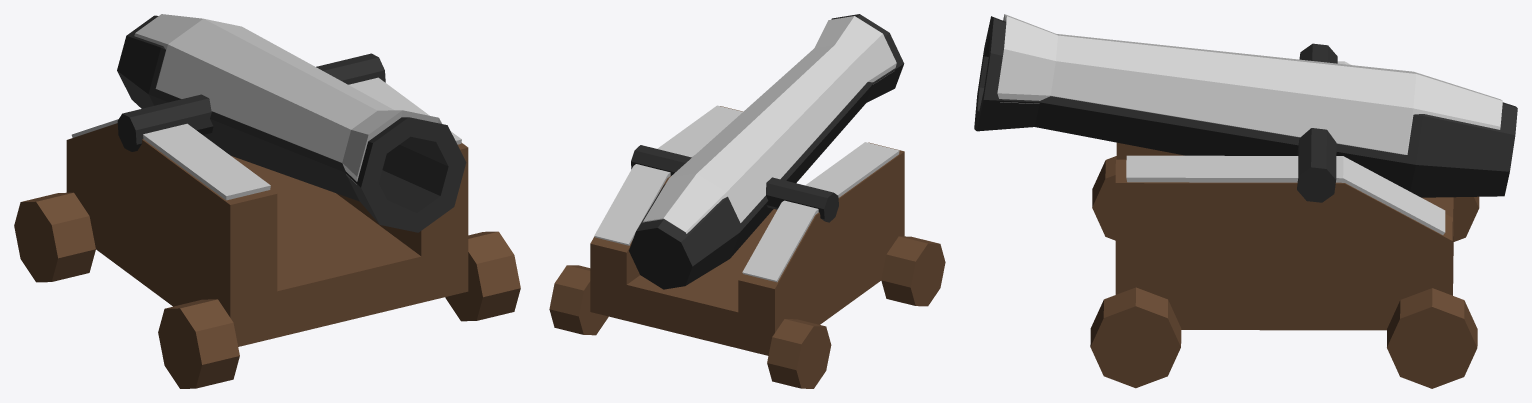
The model's file is Cannon_snow_mat.fbx.
3 views of the same model, side by side, from view 1: azimuth 30°, elevation 25°; view 2: azimuth 150°, elevation 25°; view 3: azimuth 270°, elevation 25° (orthographic). The views are drawn at different scales.
Parts seen in each view (by area): view 1: Cannon_snow_mat; view 2: Cannon_snow_mat; view 3: Cannon_snow_mat.
Boxes of the visible parts, box(x1,y1,x2,y2) form: Cannon_snow_mat: box(14, 14, 520, 388); Cannon_snow_mat: box(549, 14, 945, 388); Cannon_snow_mat: box(974, 14, 1517, 388).
Size of the model in its own units: 45.63 by 39.18 by 65.93.
